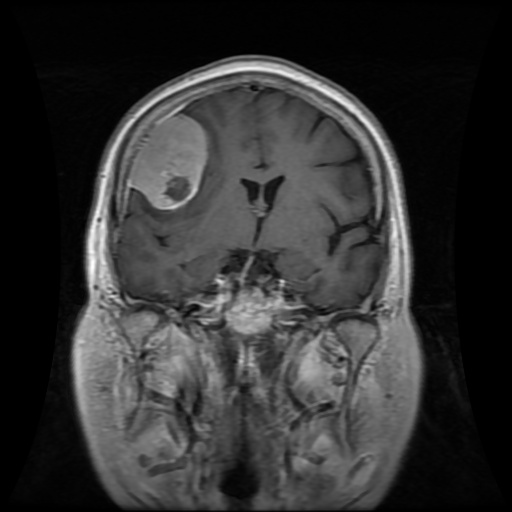meningioma: (129, 114, 208, 209)
